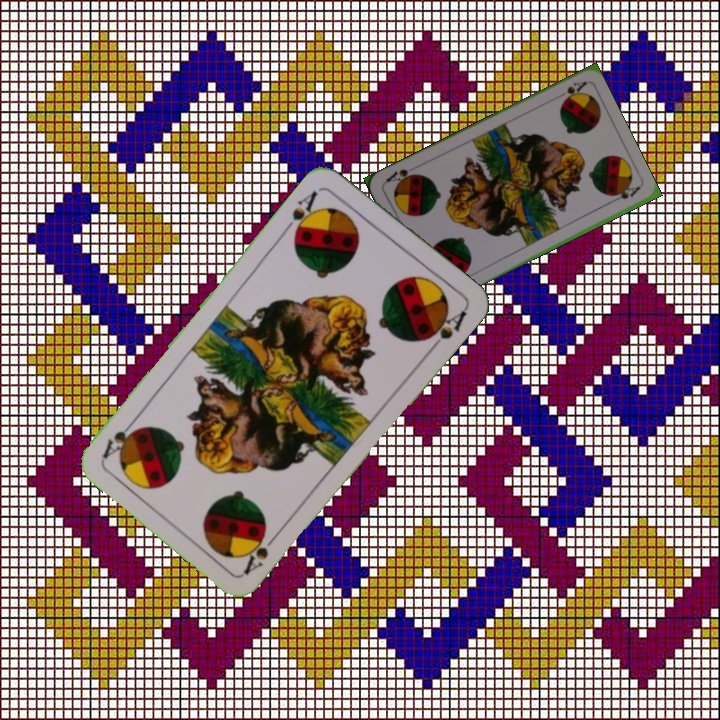SA: (280, 185, 325, 240), (239, 526, 282, 578), (551, 77, 589, 105)
